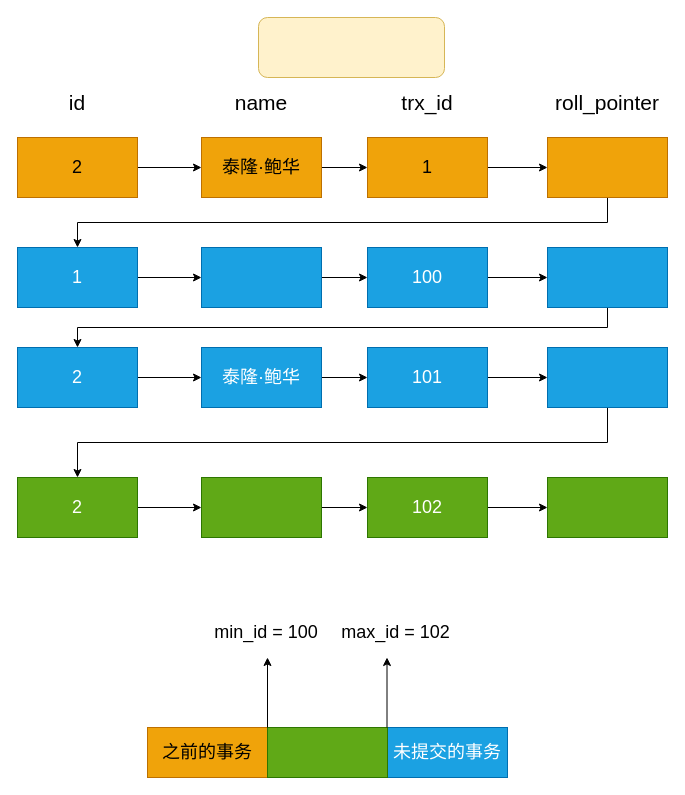
Some shapes in this 685 by 795 pixel diagram are drawn without their labels. Here are the shapes that lost their labels. From the top down, the centre of each, then its label:
At pixel 351 47: "actor_explain 表测试".
At pixel 261 277: "弗里曼-事务A".
At pixel 261 507: "泰隆·鲍华-事务C".
At pixel 327 752: "未提交已提交的事务".
